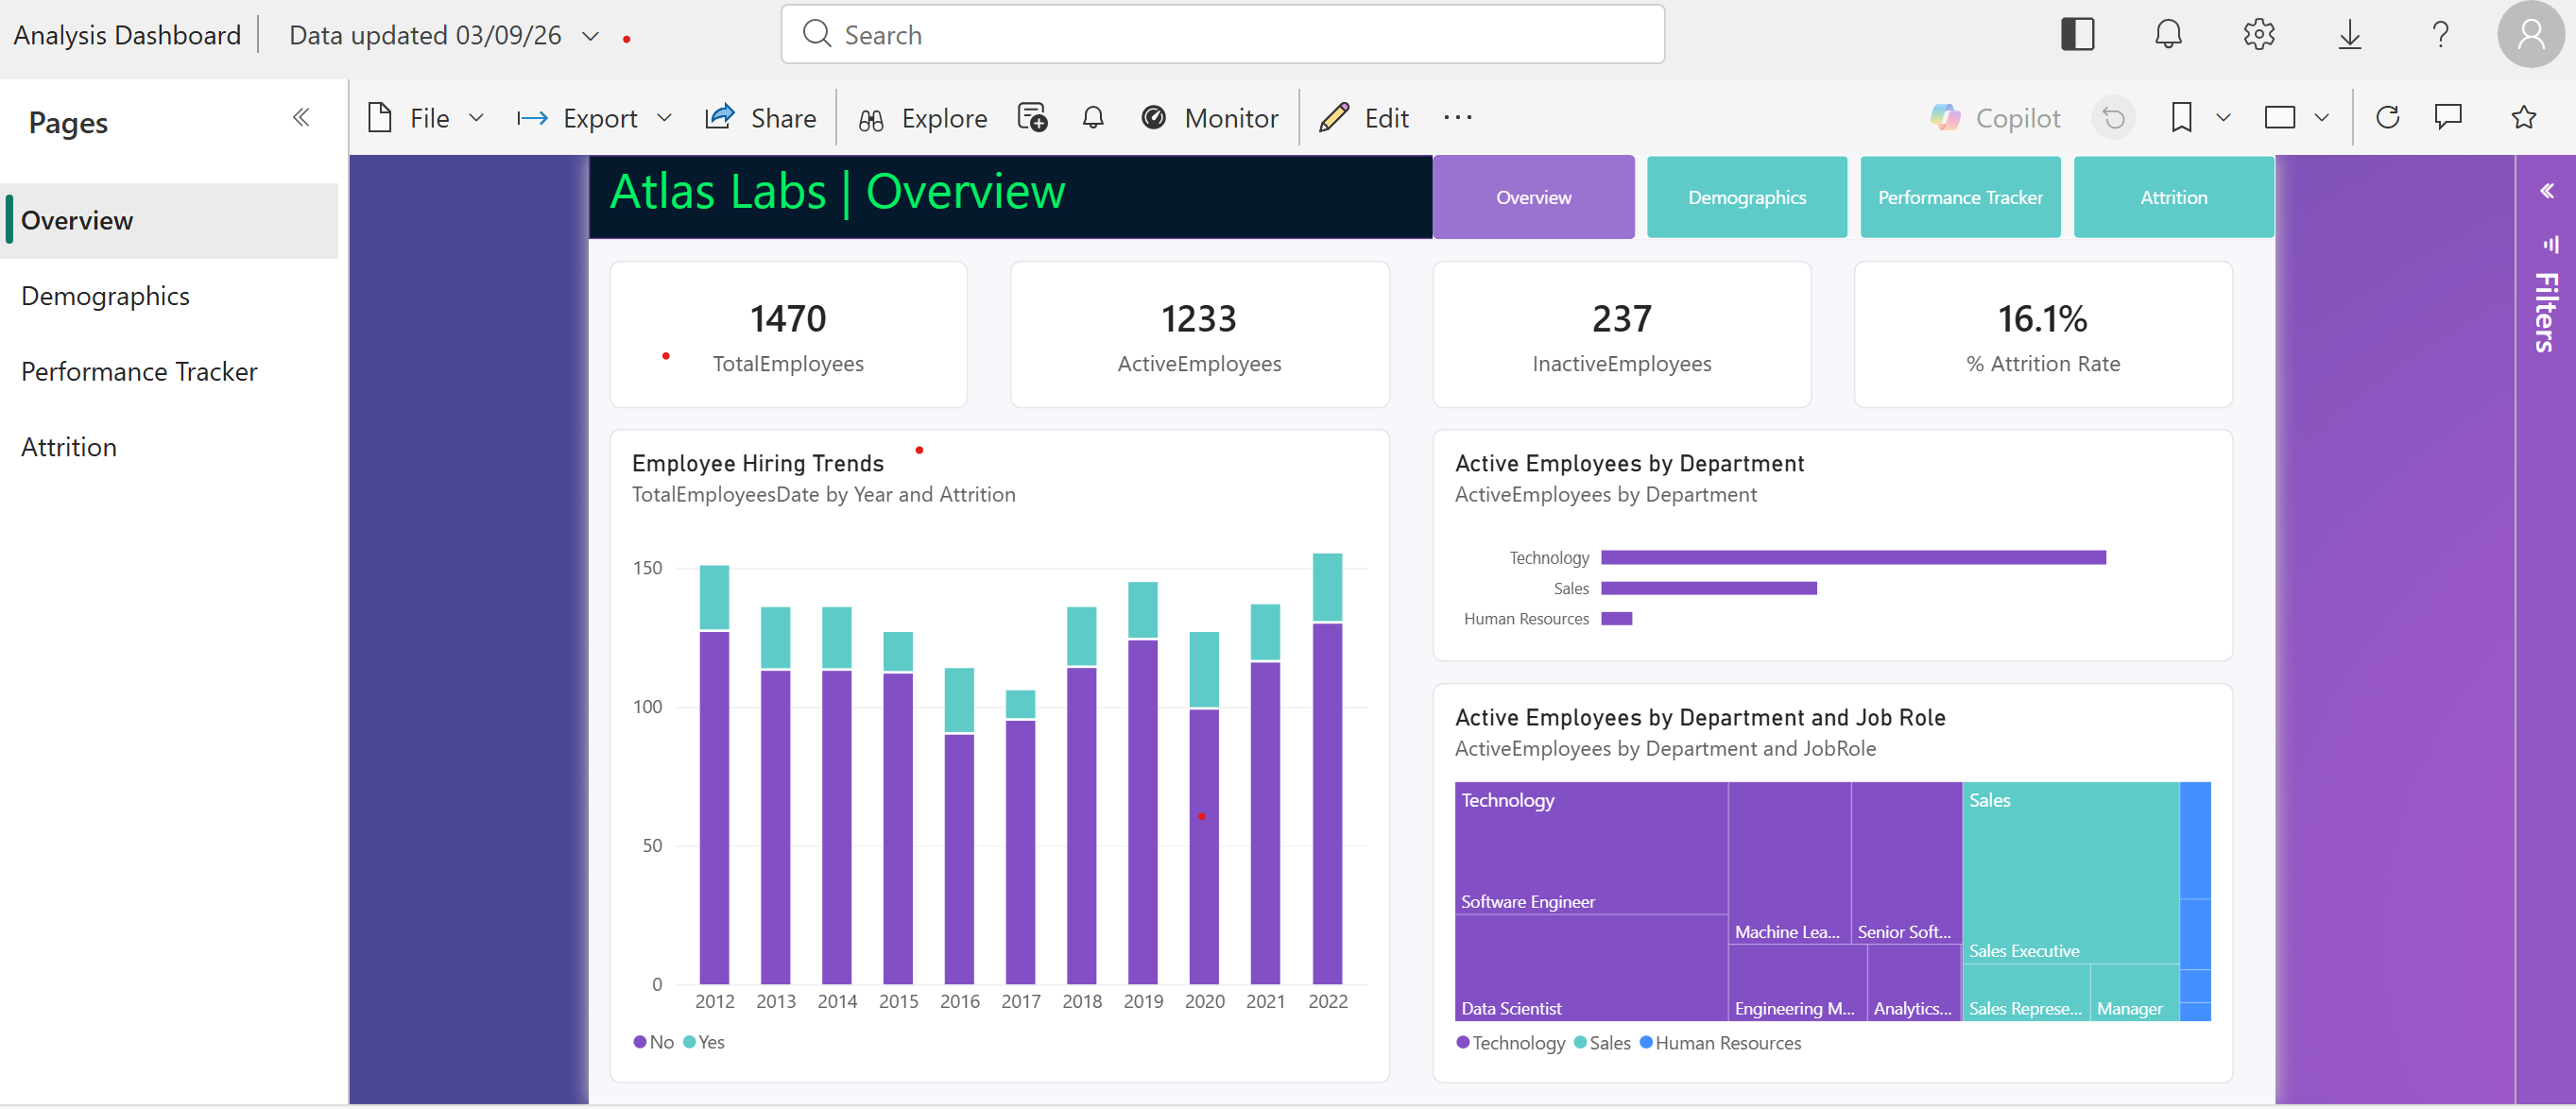

What the dashboard file says about the page in this screenshot:
{"tool":"powerbi","page":{"name":"Overview","canvas":[1280,720],"ordinal":0},"visuals":[{"type":"card","fields":{"Values":["_Measures.TotalEmployees"]},"box":[16,80,272,112],"z":0},{"type":"card","fields":{"Values":["_Measures.ActiveEmployees"]},"box":[320,80,288,112],"z":1000},{"type":"card","fields":{"Values":["_Measures.InactiveEmployees"]},"box":[640,80,288,112],"z":2000},{"type":"card","fields":{"Values":["_Measures.% Attrition Rate"]},"box":[960,80,288,112],"z":3000},{"type":"columnChart","title":"Employee Hiring Trends","fields":{"Category":["DimDate.Date.Variation.Date Hierarchy.Year","DimDate.Date.Variation.Date Hierarchy.Quarter","DimDate.Date.Variation.Date Hierarchy.Month","DimDate.Date.Variation.Date Hierarchy.Day"],"Series":["DimEmployee.Attrition"],"Y":["_Measures.TotalEmployeesDate"]},"box":[16,208,592,496],"z":4000},{"type":"clusteredBarChart","title":"Active Employees by Department","fields":{"Category":["DimEmployee.Department"],"Y":["_Measures.ActiveEmployees"]},"box":[640,208,608,176],"z":5000},{"type":"treemap","title":"Active Employees by Department and Job Role","fields":{"Details":["DimEmployee.JobRole"],"Group":["DimEmployee.Department"],"Values":["_Measures.ActiveEmployees"]},"box":[640,400,608,304],"z":6000},{"type":"shape","box":[0,0,1280,64],"z":7000},{"type":"textbox","box":[16,0,448,64],"z":8000},{"type":"pageNavigator","box":[640,0,640,64],"z":9000}]}

Visuals, with their boxes on the page's 1280x720 design canvas (x1, y1, x2, y2). These are canvas units, not pixel positions in the 2576x1109 screenshot, which may show the page scaled, cropped or inside an application window:
card - _Measures.TotalEmployees: {"x1": 16, "y1": 80, "x2": 288, "y2": 192}
card - _Measures.ActiveEmployees: {"x1": 320, "y1": 80, "x2": 608, "y2": 192}
card - _Measures.InactiveEmployees: {"x1": 640, "y1": 80, "x2": 928, "y2": 192}
card - _Measures.% Attrition Rate: {"x1": 960, "y1": 80, "x2": 1248, "y2": 192}
"Employee Hiring Trends" columnChart: {"x1": 16, "y1": 208, "x2": 608, "y2": 704}
"Active Employees by Department" clusteredBarChart: {"x1": 640, "y1": 208, "x2": 1248, "y2": 384}
"Active Employees by Department and Job Role" treemap: {"x1": 640, "y1": 400, "x2": 1248, "y2": 704}
shape: {"x1": 0, "y1": 0, "x2": 1280, "y2": 64}
textbox: {"x1": 16, "y1": 0, "x2": 464, "y2": 64}
pageNavigator: {"x1": 640, "y1": 0, "x2": 1280, "y2": 64}
